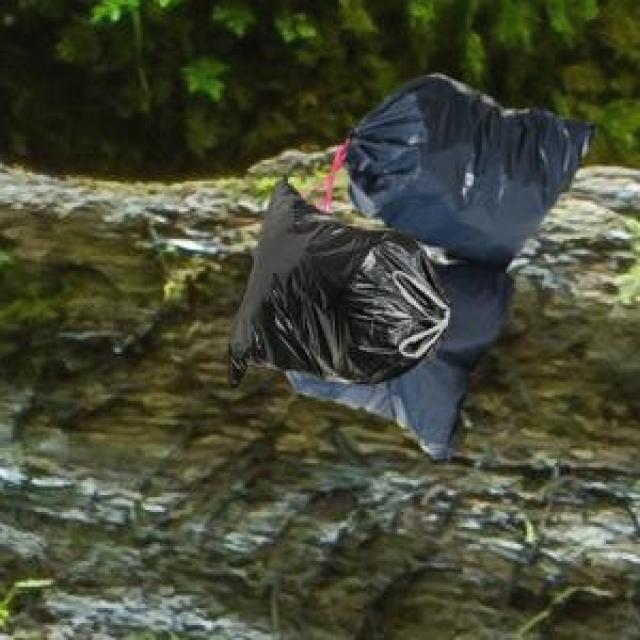Trashbag: (222, 170, 420, 402), (380, 73, 596, 271)
